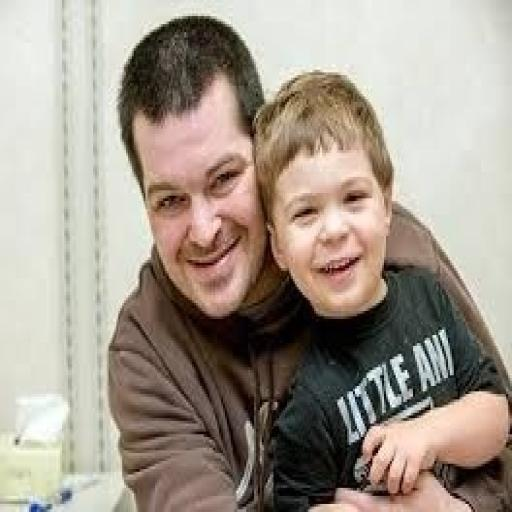hugging: (105, 11, 510, 509)
